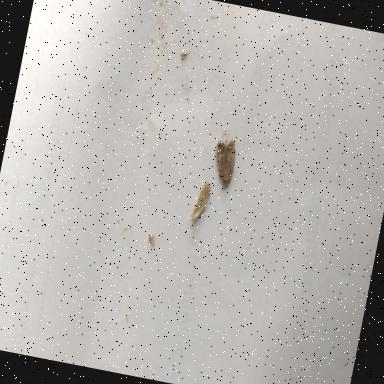pbw: (210, 138, 238, 187), (185, 178, 212, 228)
